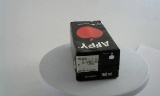appy: (64, 19, 113, 82)
